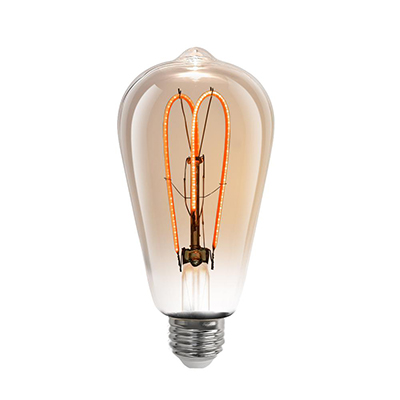Nonrec_Glass: (97, 39, 283, 382)
